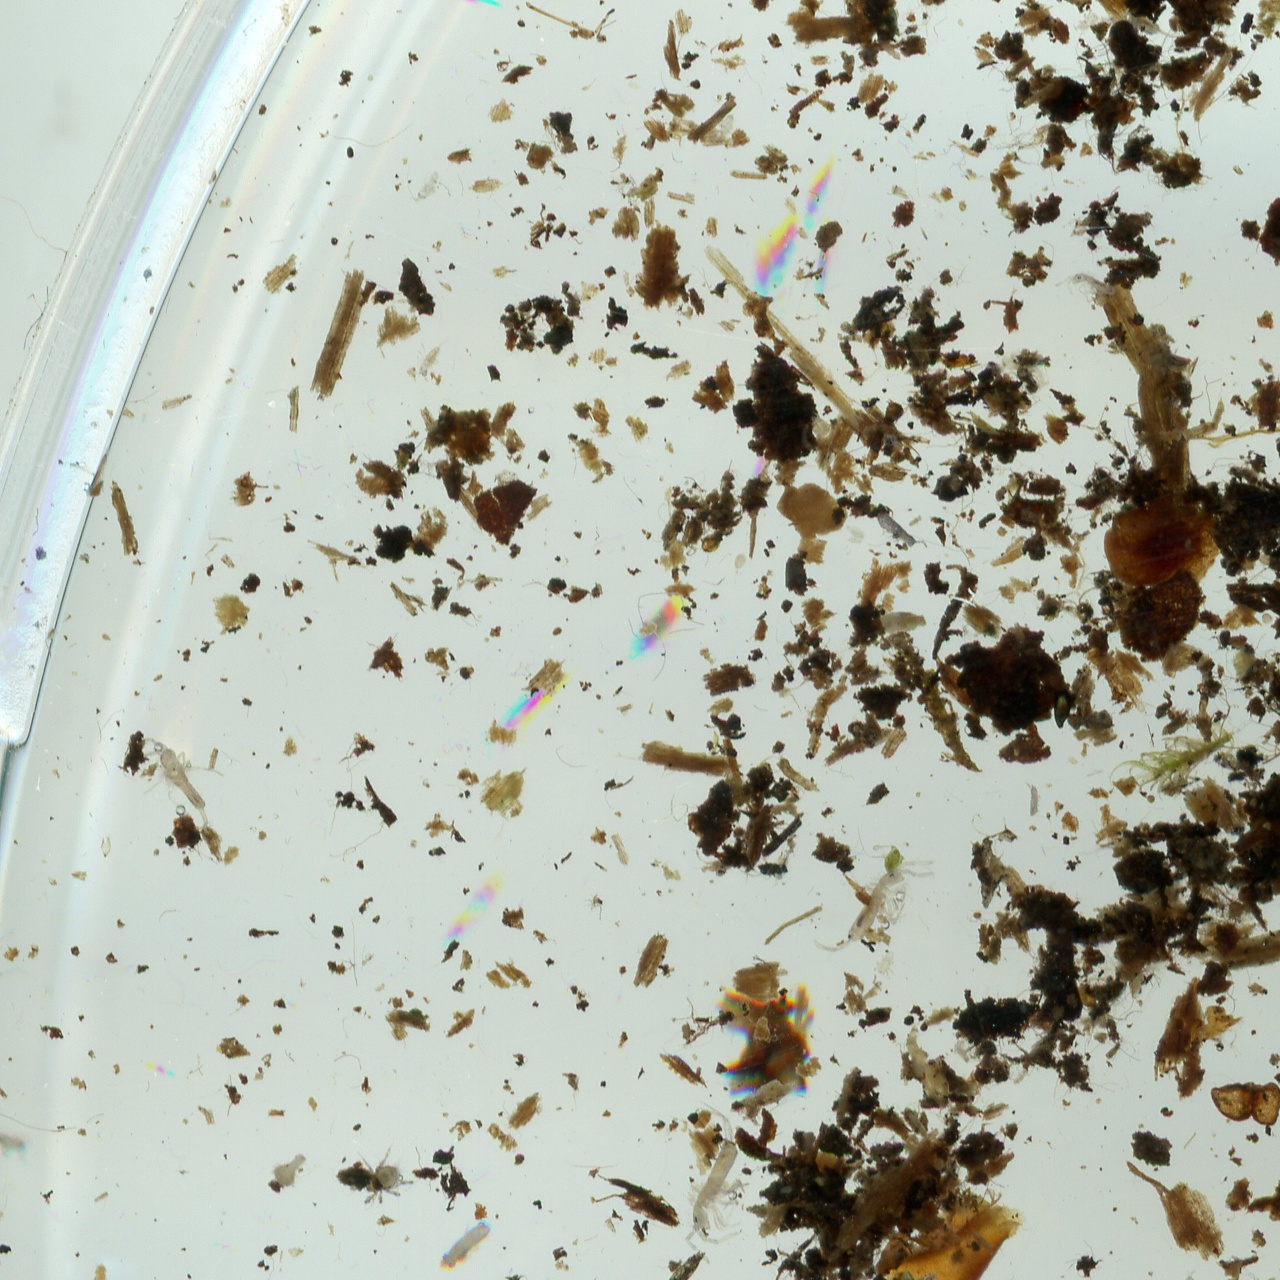arthropod: (804, 823, 942, 983), (113, 707, 245, 847), (663, 1112, 777, 1268), (429, 1212, 501, 1280), (865, 501, 935, 566), (356, 1141, 414, 1206), (1121, 7, 1185, 52), (415, 338, 450, 384), (407, 168, 438, 206), (1026, 779, 1044, 819), (874, 948, 899, 978), (952, 1032, 973, 1065), (1180, 1268, 1199, 1280)
